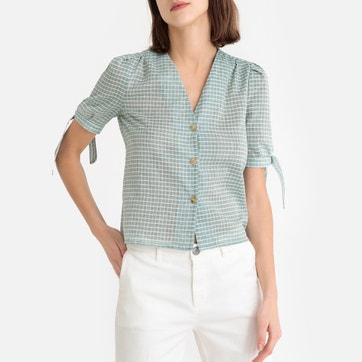C_short blouse: (53, 44, 287, 250)
